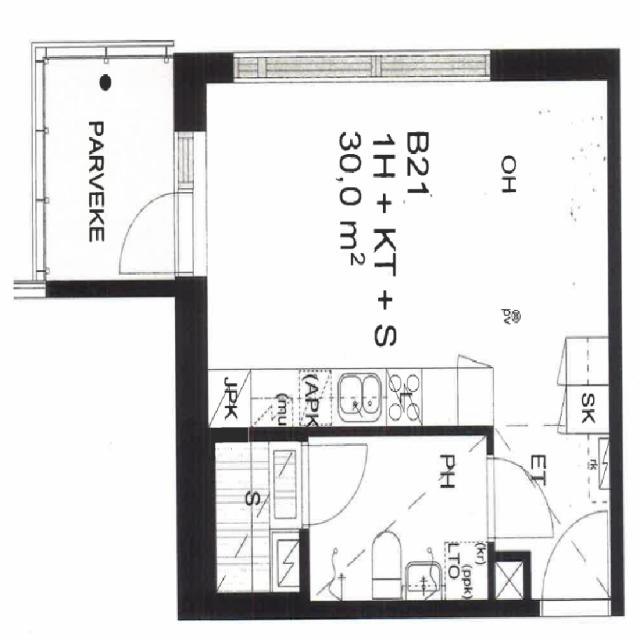door: (114, 191, 206, 272), (542, 511, 608, 618), (298, 445, 367, 524), (488, 458, 552, 538)
